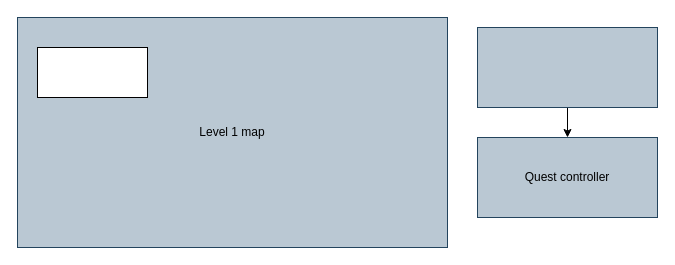
Some shapes in this 675 by 265 pixel diagram are drawn without their labels. Here are the shapes that lost their labels. From the top down, the box of each, then its label:
(36, 46, 148, 98): Player
(476, 26, 658, 108): Inventory system
